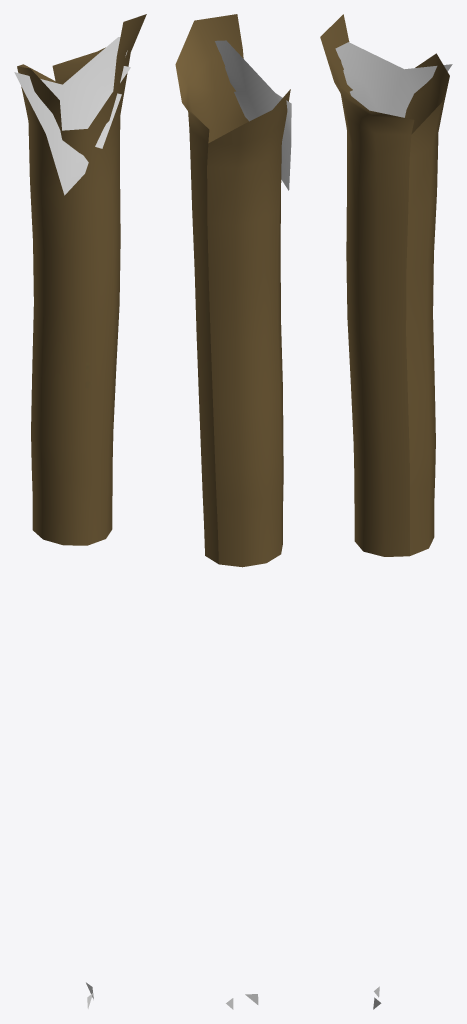
File: PiernaDer.obj
3 views of the same model, side by side, from view 1: azimuth 90°, elevation 25°; view 2: azimuth 210°, elevation 25°; view 3: azimuth 270°, elevation 25° (orthographic).
Parts seen in each view (by area): view 1: PiernaDer_Mesh_Body_0.005; view 2: PiernaDer_Mesh_Body_0.005; view 3: PiernaDer_Mesh_Body_0.005.
Part boxes in pixels (left/top/right/bottom): PiernaDer_Mesh_Body_0.005: left=14, top=14, right=146, bottom=1008; PiernaDer_Mesh_Body_0.005: left=175, top=14, right=291, bottom=1009; PiernaDer_Mesh_Body_0.005: left=320, top=14, right=452, bottom=1009.
Bounding box in the file's own units: 0.0855 × 0.8823 × 0.1076.
Materials: 1 (1 with a texture image).
